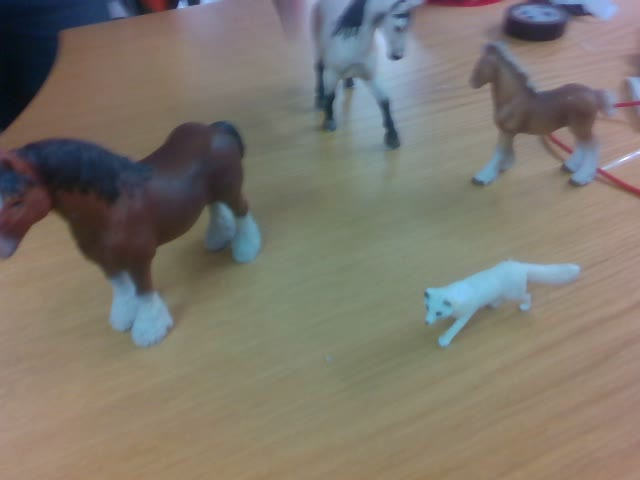toy: (1, 120, 259, 345), (469, 43, 623, 187), (423, 261, 579, 346)
